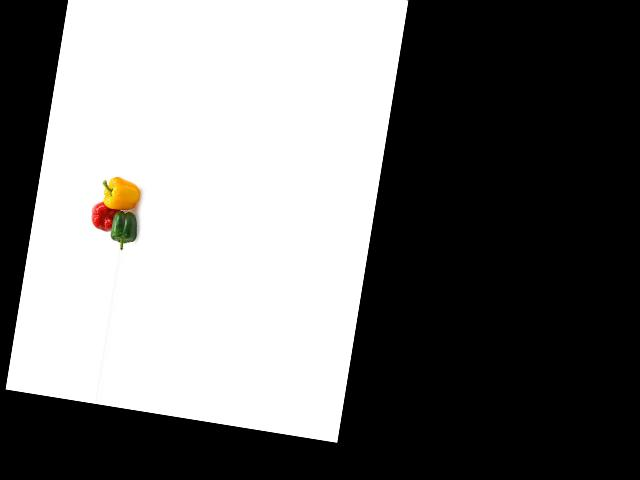bell_pepper: (105, 202, 141, 248)
